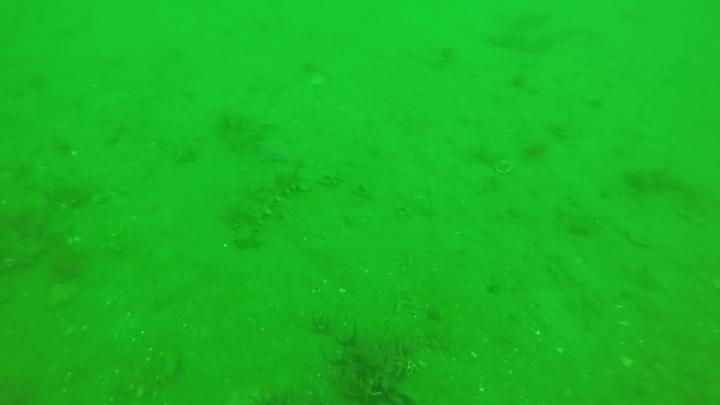holothurian: (224, 165, 310, 249)
starfish: (253, 134, 296, 166)
